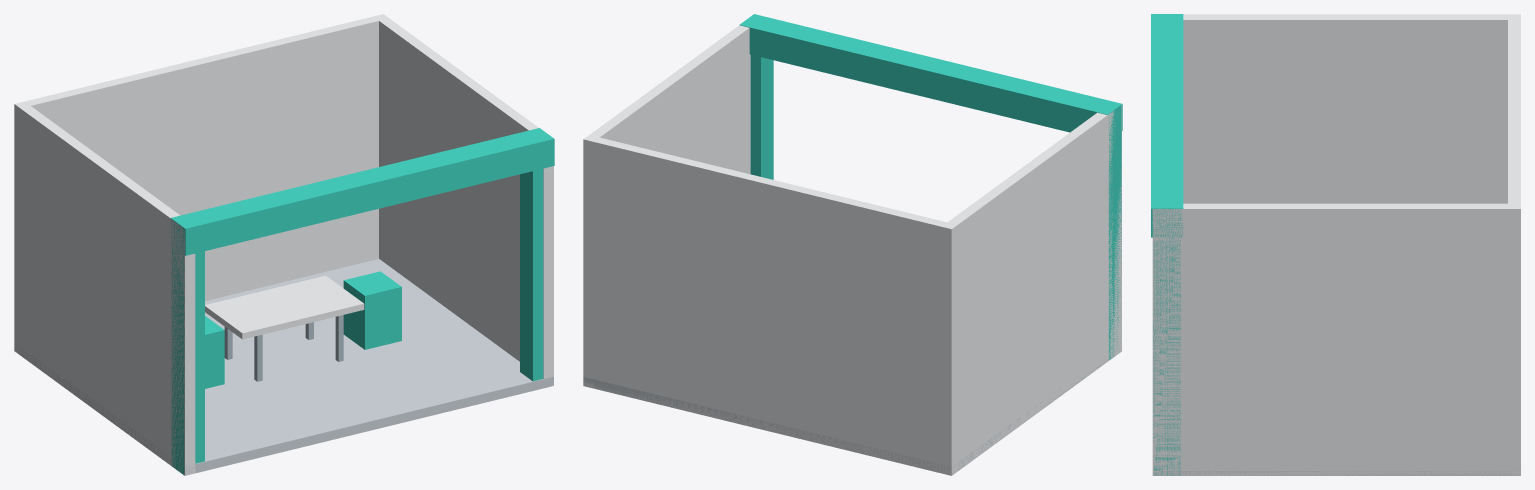
3 renders of one model, left to right at view 1: azimuth 30°, elevation 25°; view 2: azimuth 150°, elevation 25°; view 3: azimuth 270°, elevation 25°, orthographic. The views are drawn at different scales.
Parts seen in each view (by area): view 1: Exhibition Booth Concept; view 2: Exhibition Booth Concept; view 3: Exhibition Booth Concept.
Boxes of the visible parts, box(x1,y1,x2,y2) form: Exhibition Booth Concept: box(14, 14, 554, 475); Exhibition Booth Concept: box(583, 14, 1122, 475); Exhibition Booth Concept: box(1151, 14, 1520, 475).
Size of the model in its own units: 5 by 3.2 by 4.02.
